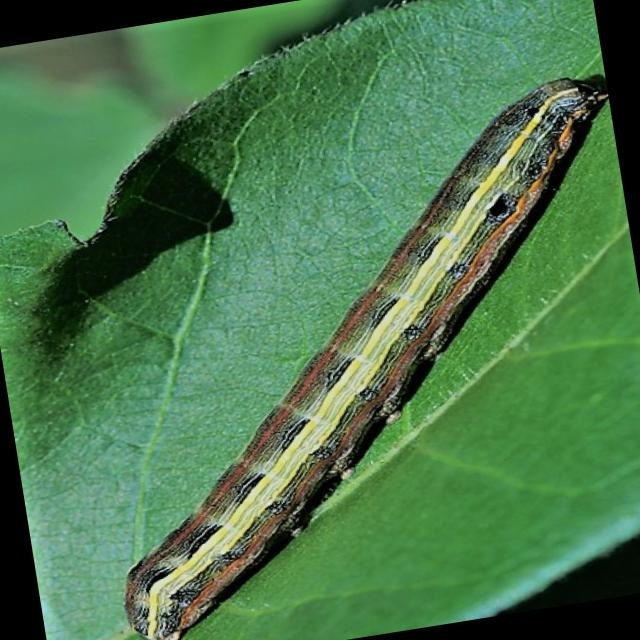Armyworm: (40, 72, 640, 640)
